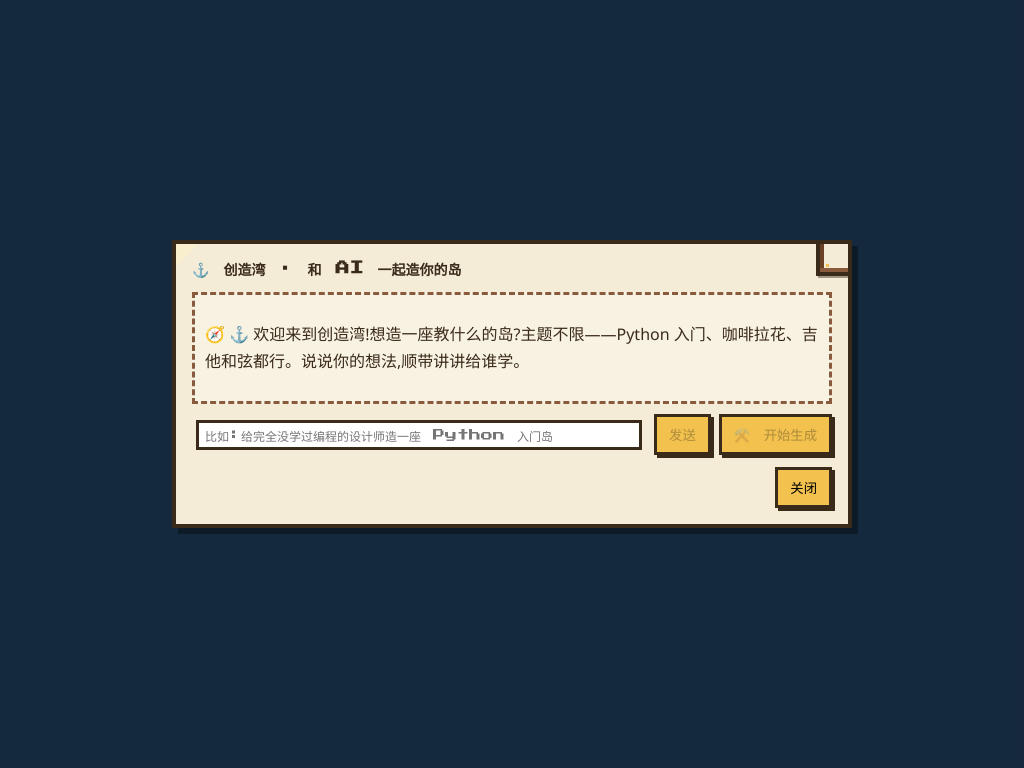
生成失败(两次坏输出)如实报错
The width and height of the screenshot is (1024, 768).
Type "随便" into the field named "建岛需求" at coordinates (419, 435), box [196,420,642,450]
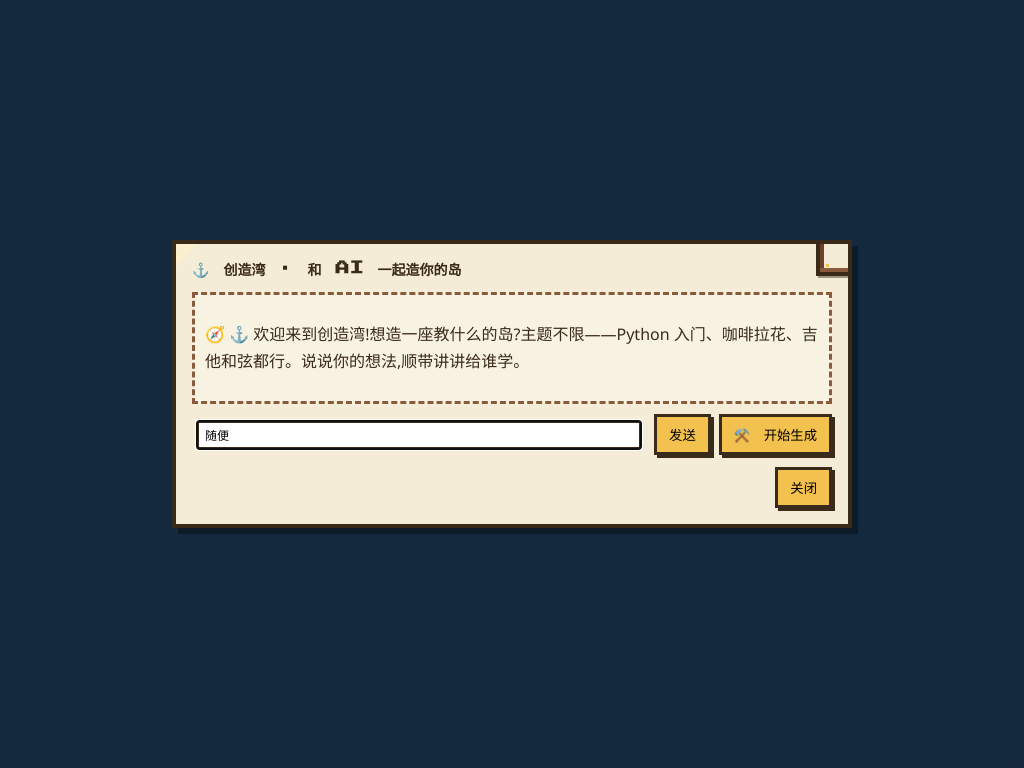
Click the button "⚒️ 开始生成" at coordinates (775, 435), box [719,414,832,455]
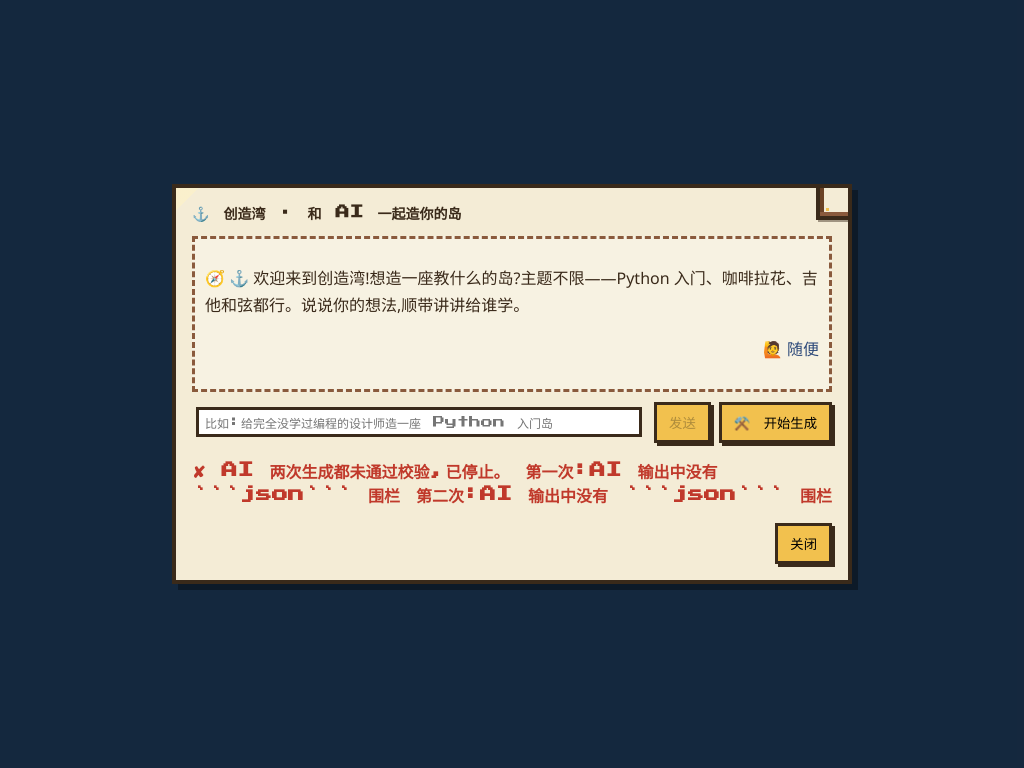
Now the text "两次生成都未通过校验" is shown, box [192,462,832,502]
